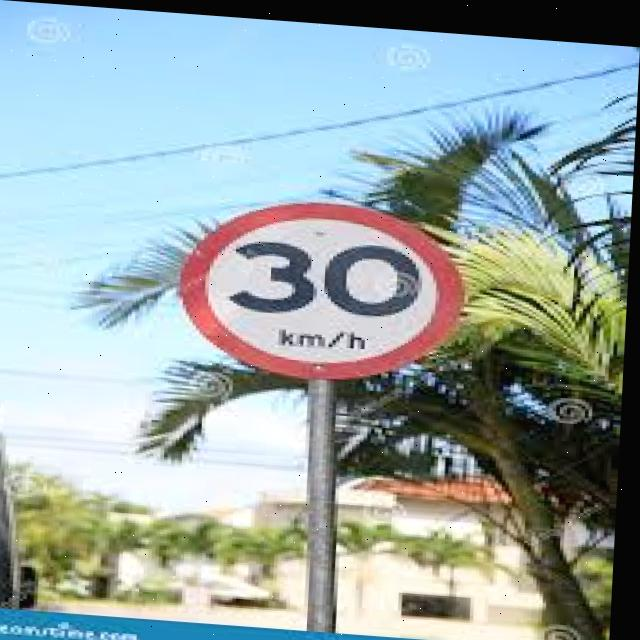Speed limit 30: (174, 186, 472, 384)
